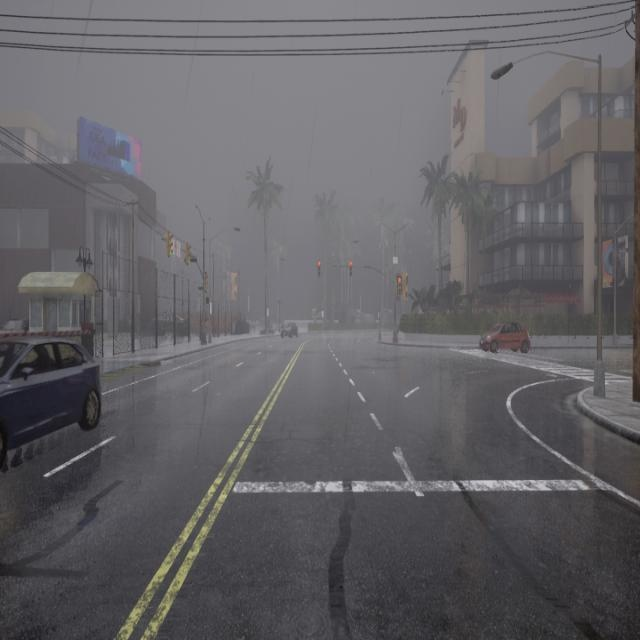bien_chi_dan: (166, 231, 174, 258), (186, 243, 192, 268), (396, 274, 402, 296), (204, 271, 209, 294), (349, 259, 353, 278), (318, 261, 322, 278), (167, 249, 173, 257), (396, 276, 402, 283), (186, 259, 191, 267), (348, 259, 353, 267), (316, 260, 322, 266), (204, 286, 209, 292)
